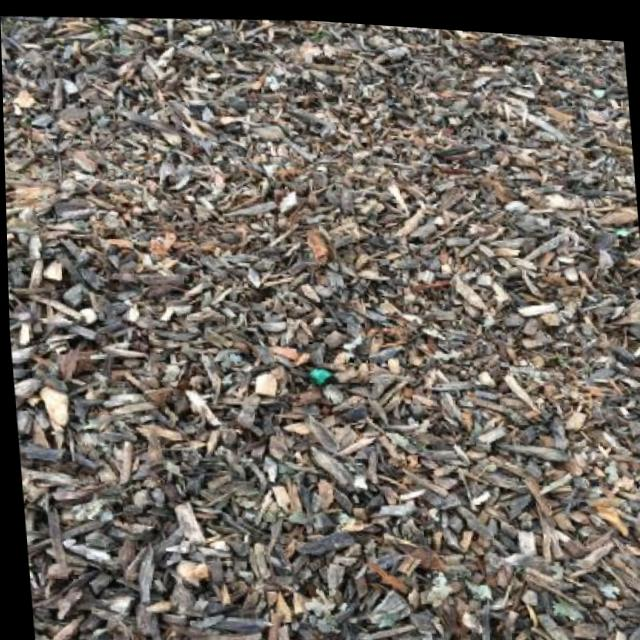plastic: (308, 366, 334, 388)
